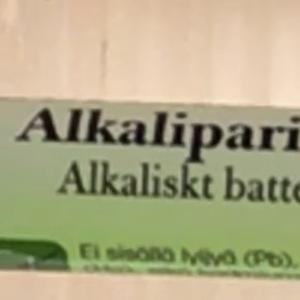keyword: (6, 98, 93, 153)
